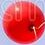Balloon: (2, 1, 45, 45)
